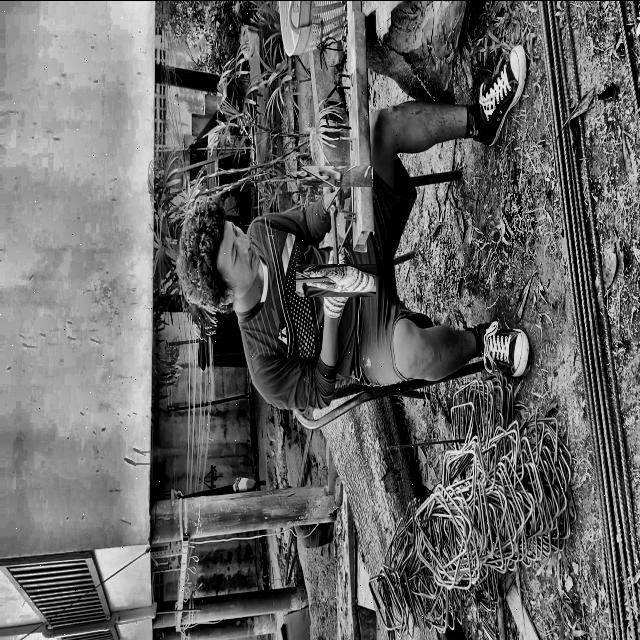gloved: (307, 251, 364, 308)
not-gloved: (310, 151, 360, 200)
